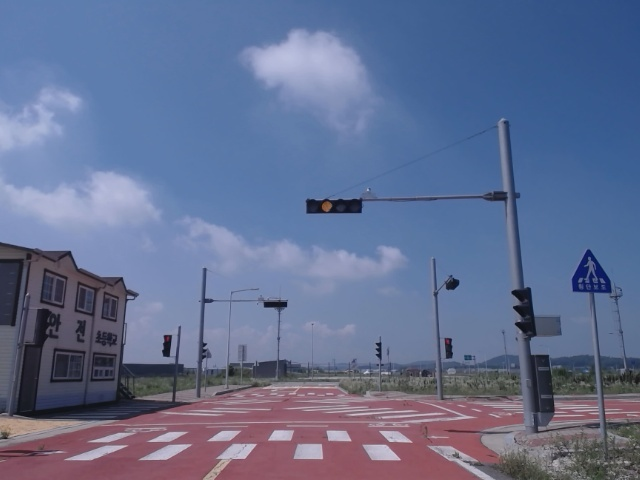orange_4: (306, 197, 363, 214)
